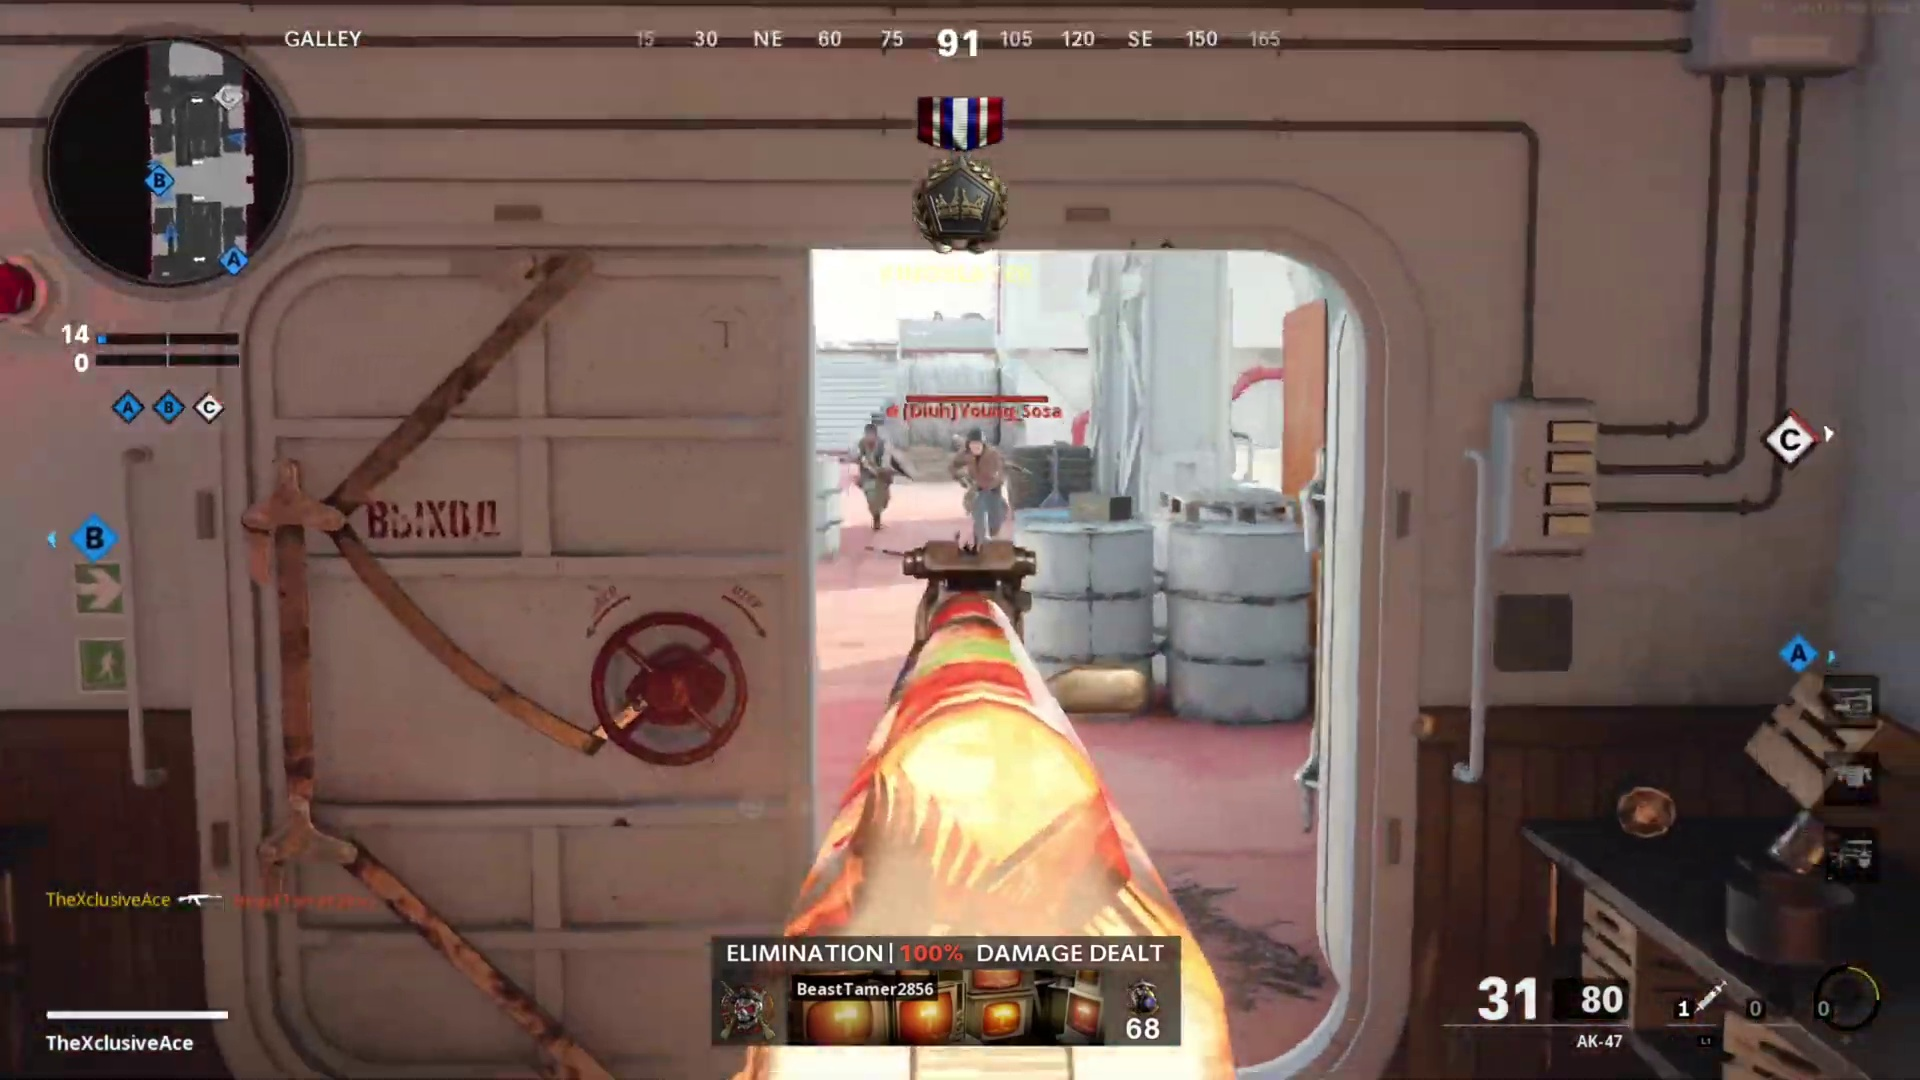head: (963, 426, 988, 460), (861, 420, 880, 448)
person: (947, 428, 1007, 545), (852, 415, 902, 530)
